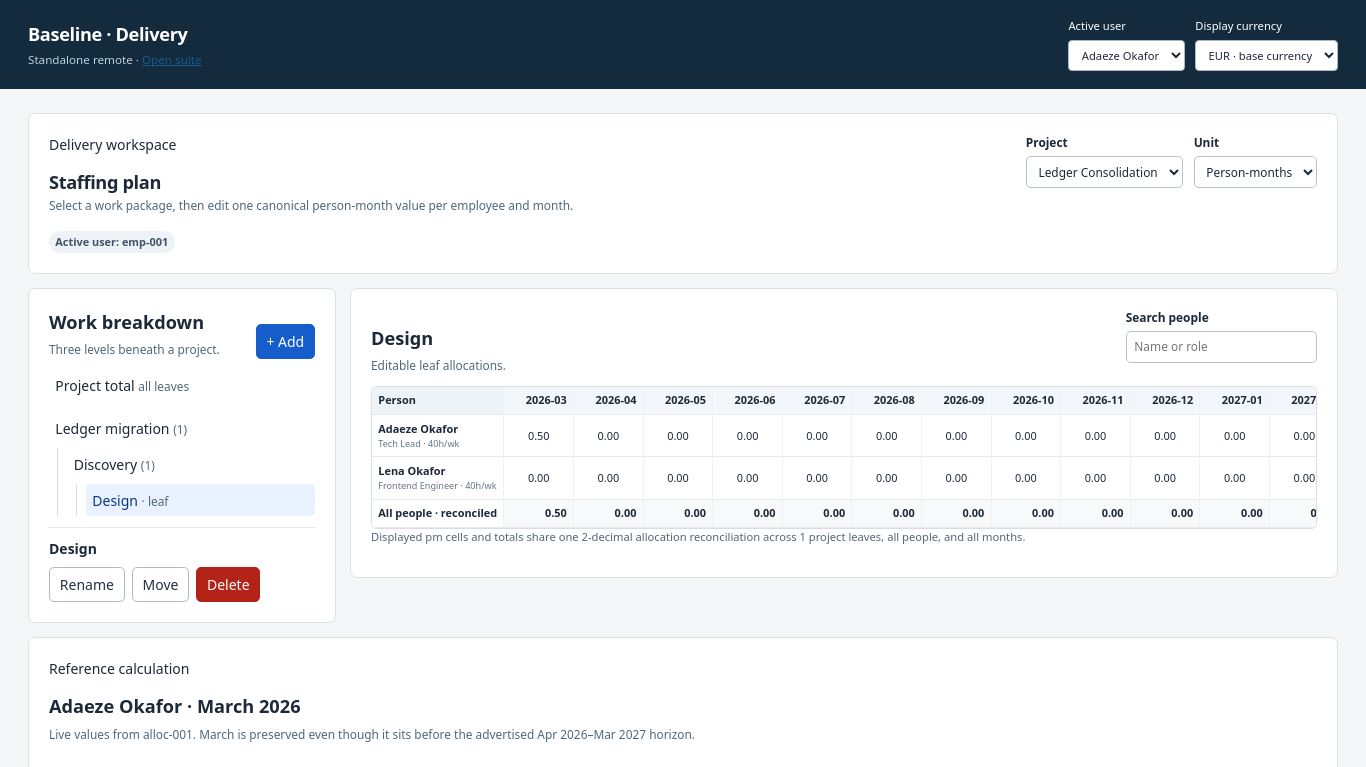
Test case: standalone adapters and hosted integration › runs Delivery standalone with the actual March reference and editable cost unit
The width and height of the screenshot is (1366, 767).
Expected: the heading "Staffing plan" is shown, [49,170,161,194]
Select "Cost" in the dropdown labelled "Unit" at (1255, 172), box [1194,156,1317,188]
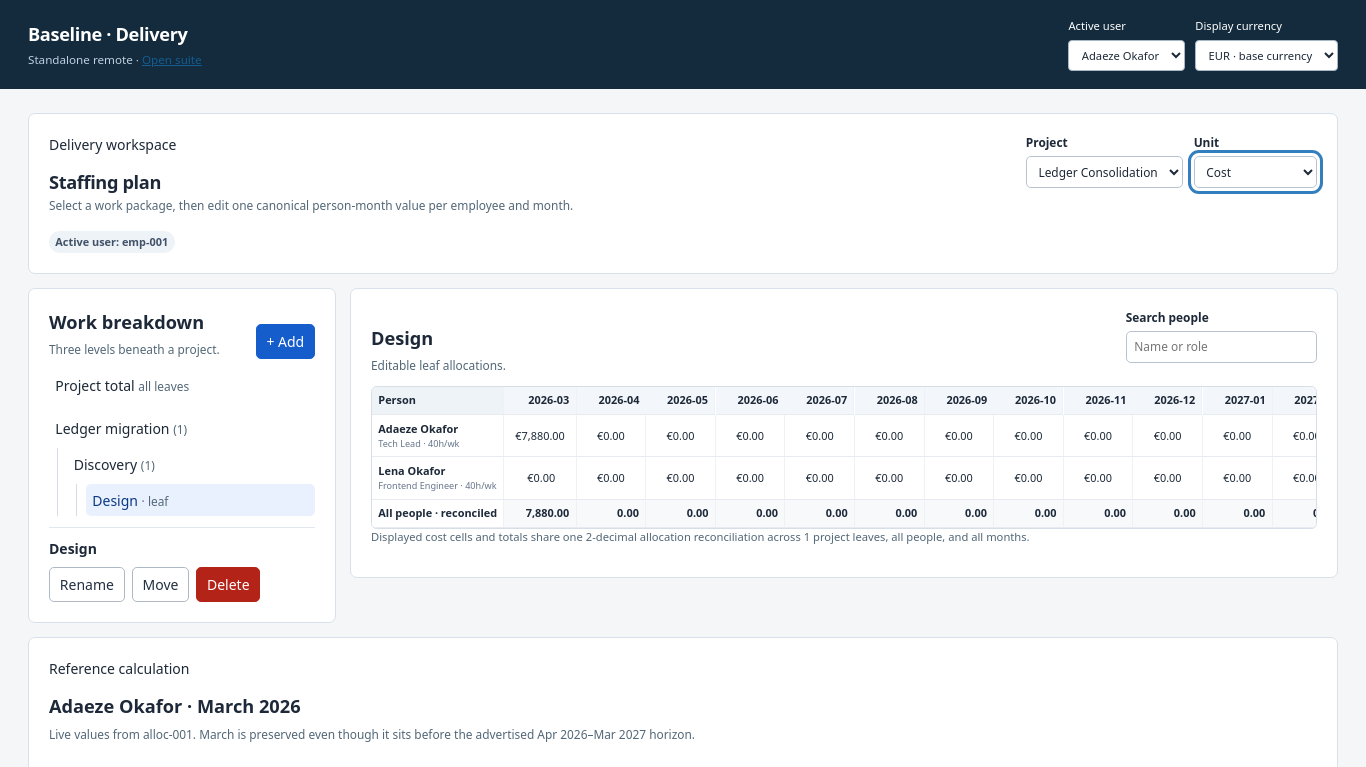
Expected: the button "€7,880.00" is shown, [511,423,569,448]
